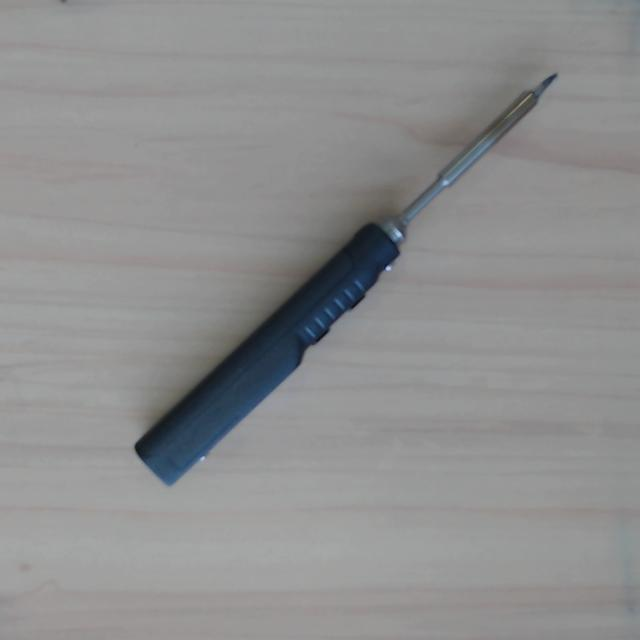Soldering-Iron: (131, 53, 575, 490)
